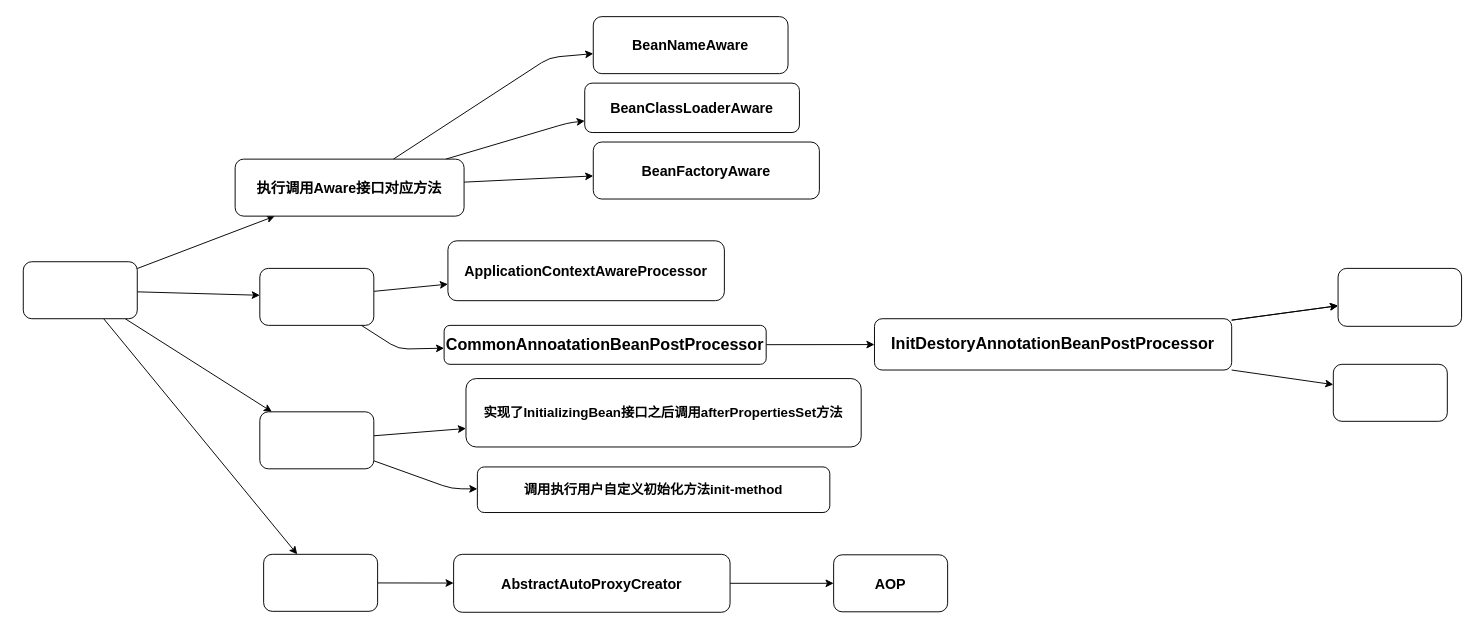
Image size: 1478x629. Some labels were removed from this diagram. Each missing label, with the centre of its shape:
"@PostContruct" belongs at point (1399, 296).
"@PreDestory" belongs at point (1389, 392).
"initializeBean" belongs at point (79, 290).
"执行after的初始化方法" belongs at point (320, 582).
"执行before的初始化方法" belongs at point (316, 296).
"执行init-method" belongs at point (316, 440).
